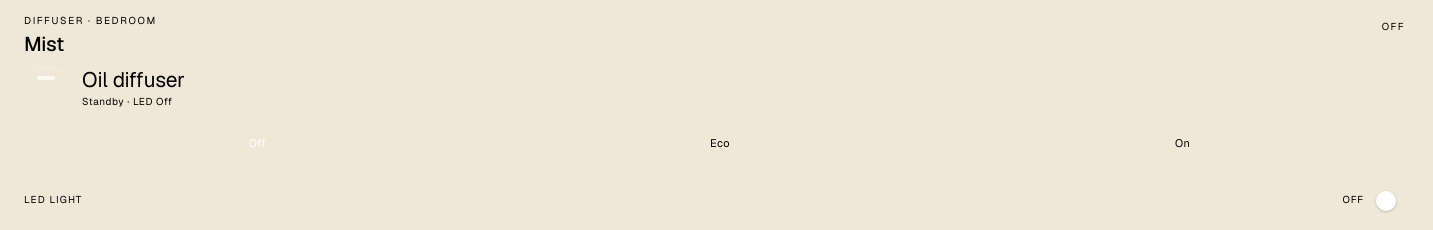
B7 — an off LED shows no brightness or colour, and never the old mock's 65% / Ocean › …including an LED switched on from the strip before HA has echoed a colour
Expected: the text with class "sub" reads "Standby · LED off", [82, 95, 172, 108]
Click the switch named "Diffuser LED": (1395, 200) [1374, 188, 1416, 212]
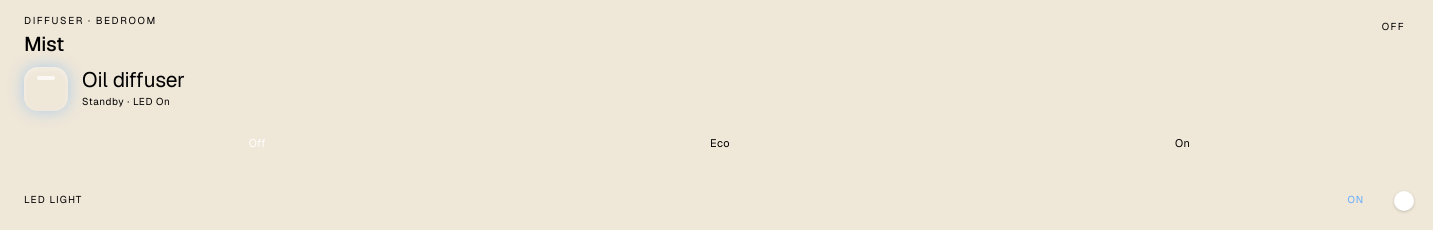
Now the text with class "sub" reads "Standby · LED on", box [82, 95, 170, 108]
